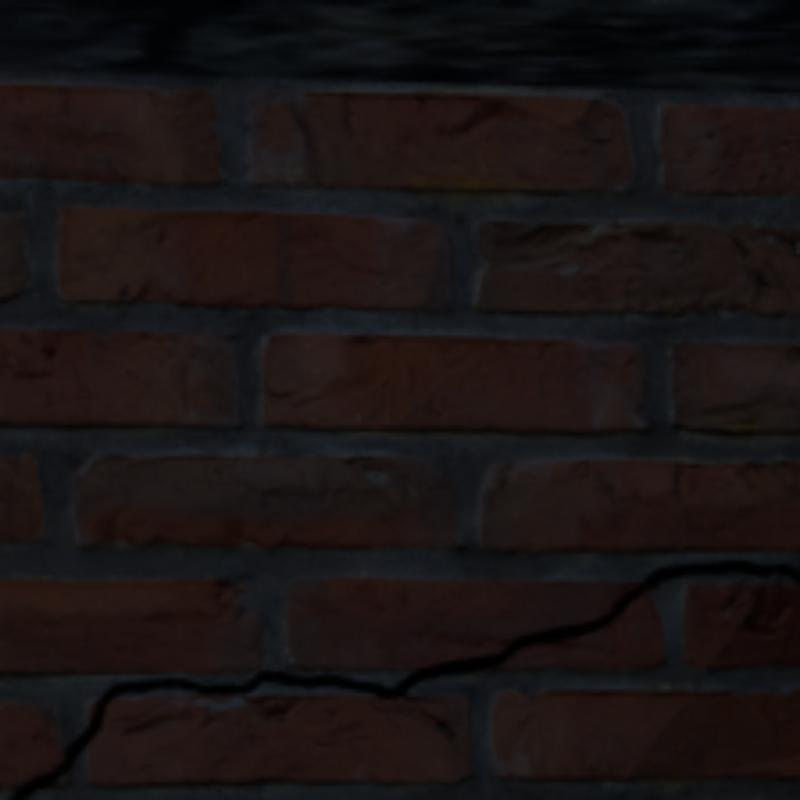pothole: (14, 561, 796, 796)
